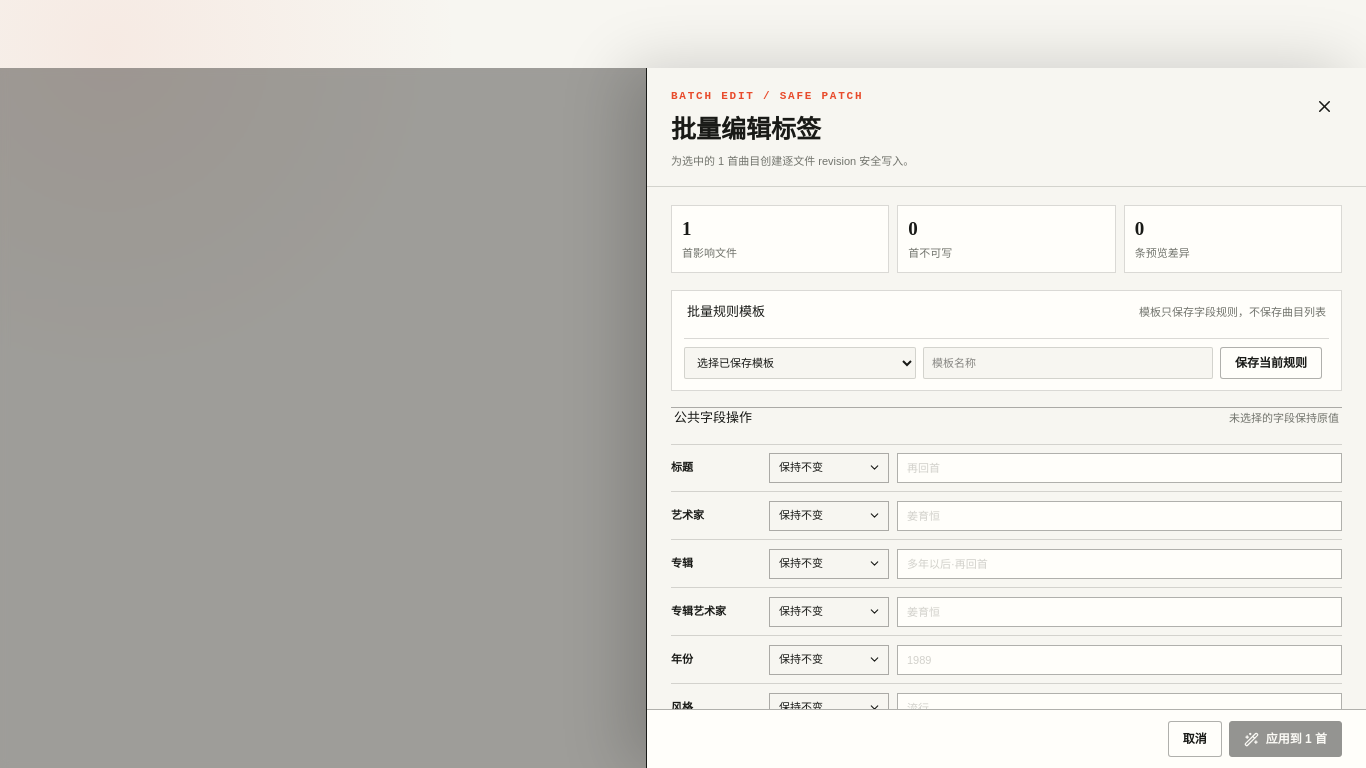
BatchEditPanel › requires find text before enabling a replacement batch write
The width and height of the screenshot is (1366, 768).
Step 1. Select "查找替换" in the dropdown named "标题操作" → point(829, 468), box top-left (779, 454), bottom-right (879, 482)
(page scrolled)
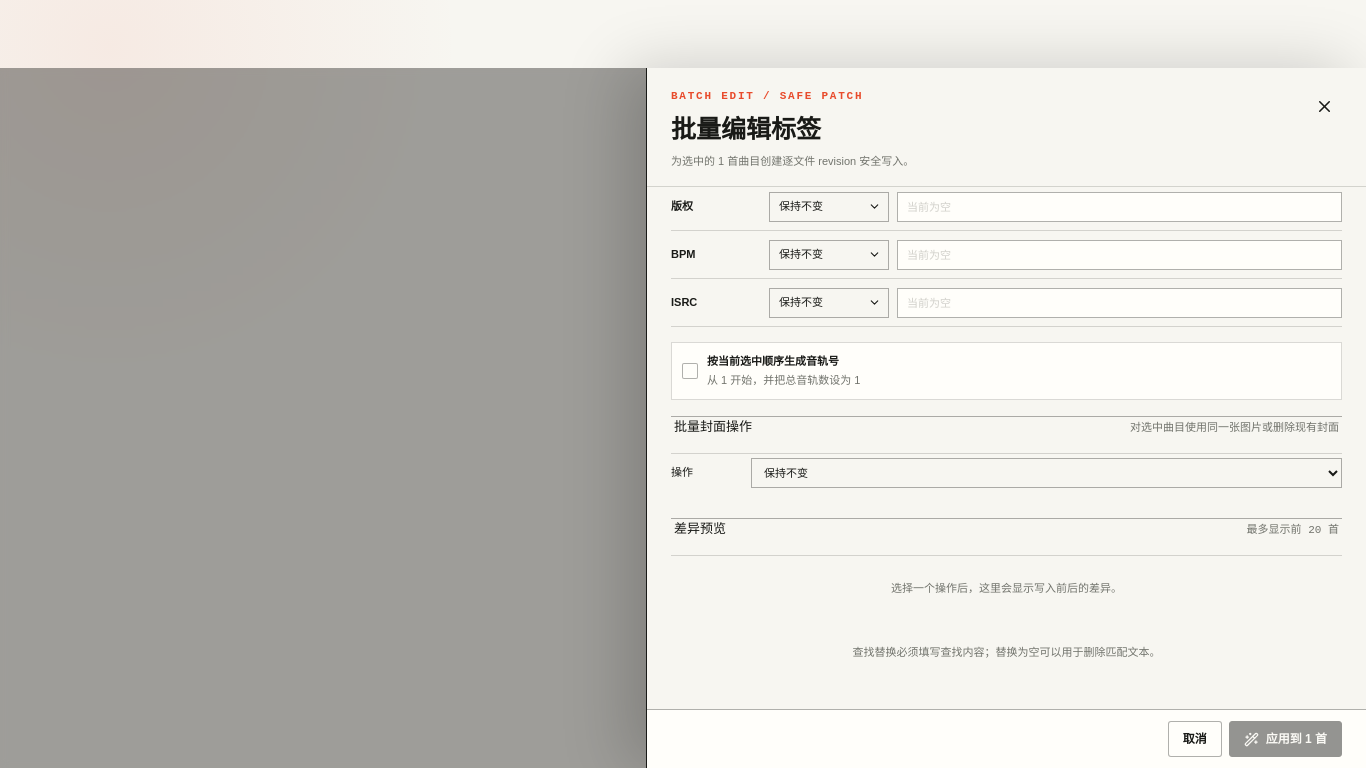
Check: the button "应用到 1 首" is disabled, box top-left (1229, 721), bottom-right (1342, 757)
Check: the text "查找替换必须填写查找内容；替换为空可以用于删除匹配文本。" is shown, box top-left (852, 646), bottom-right (1160, 658)
